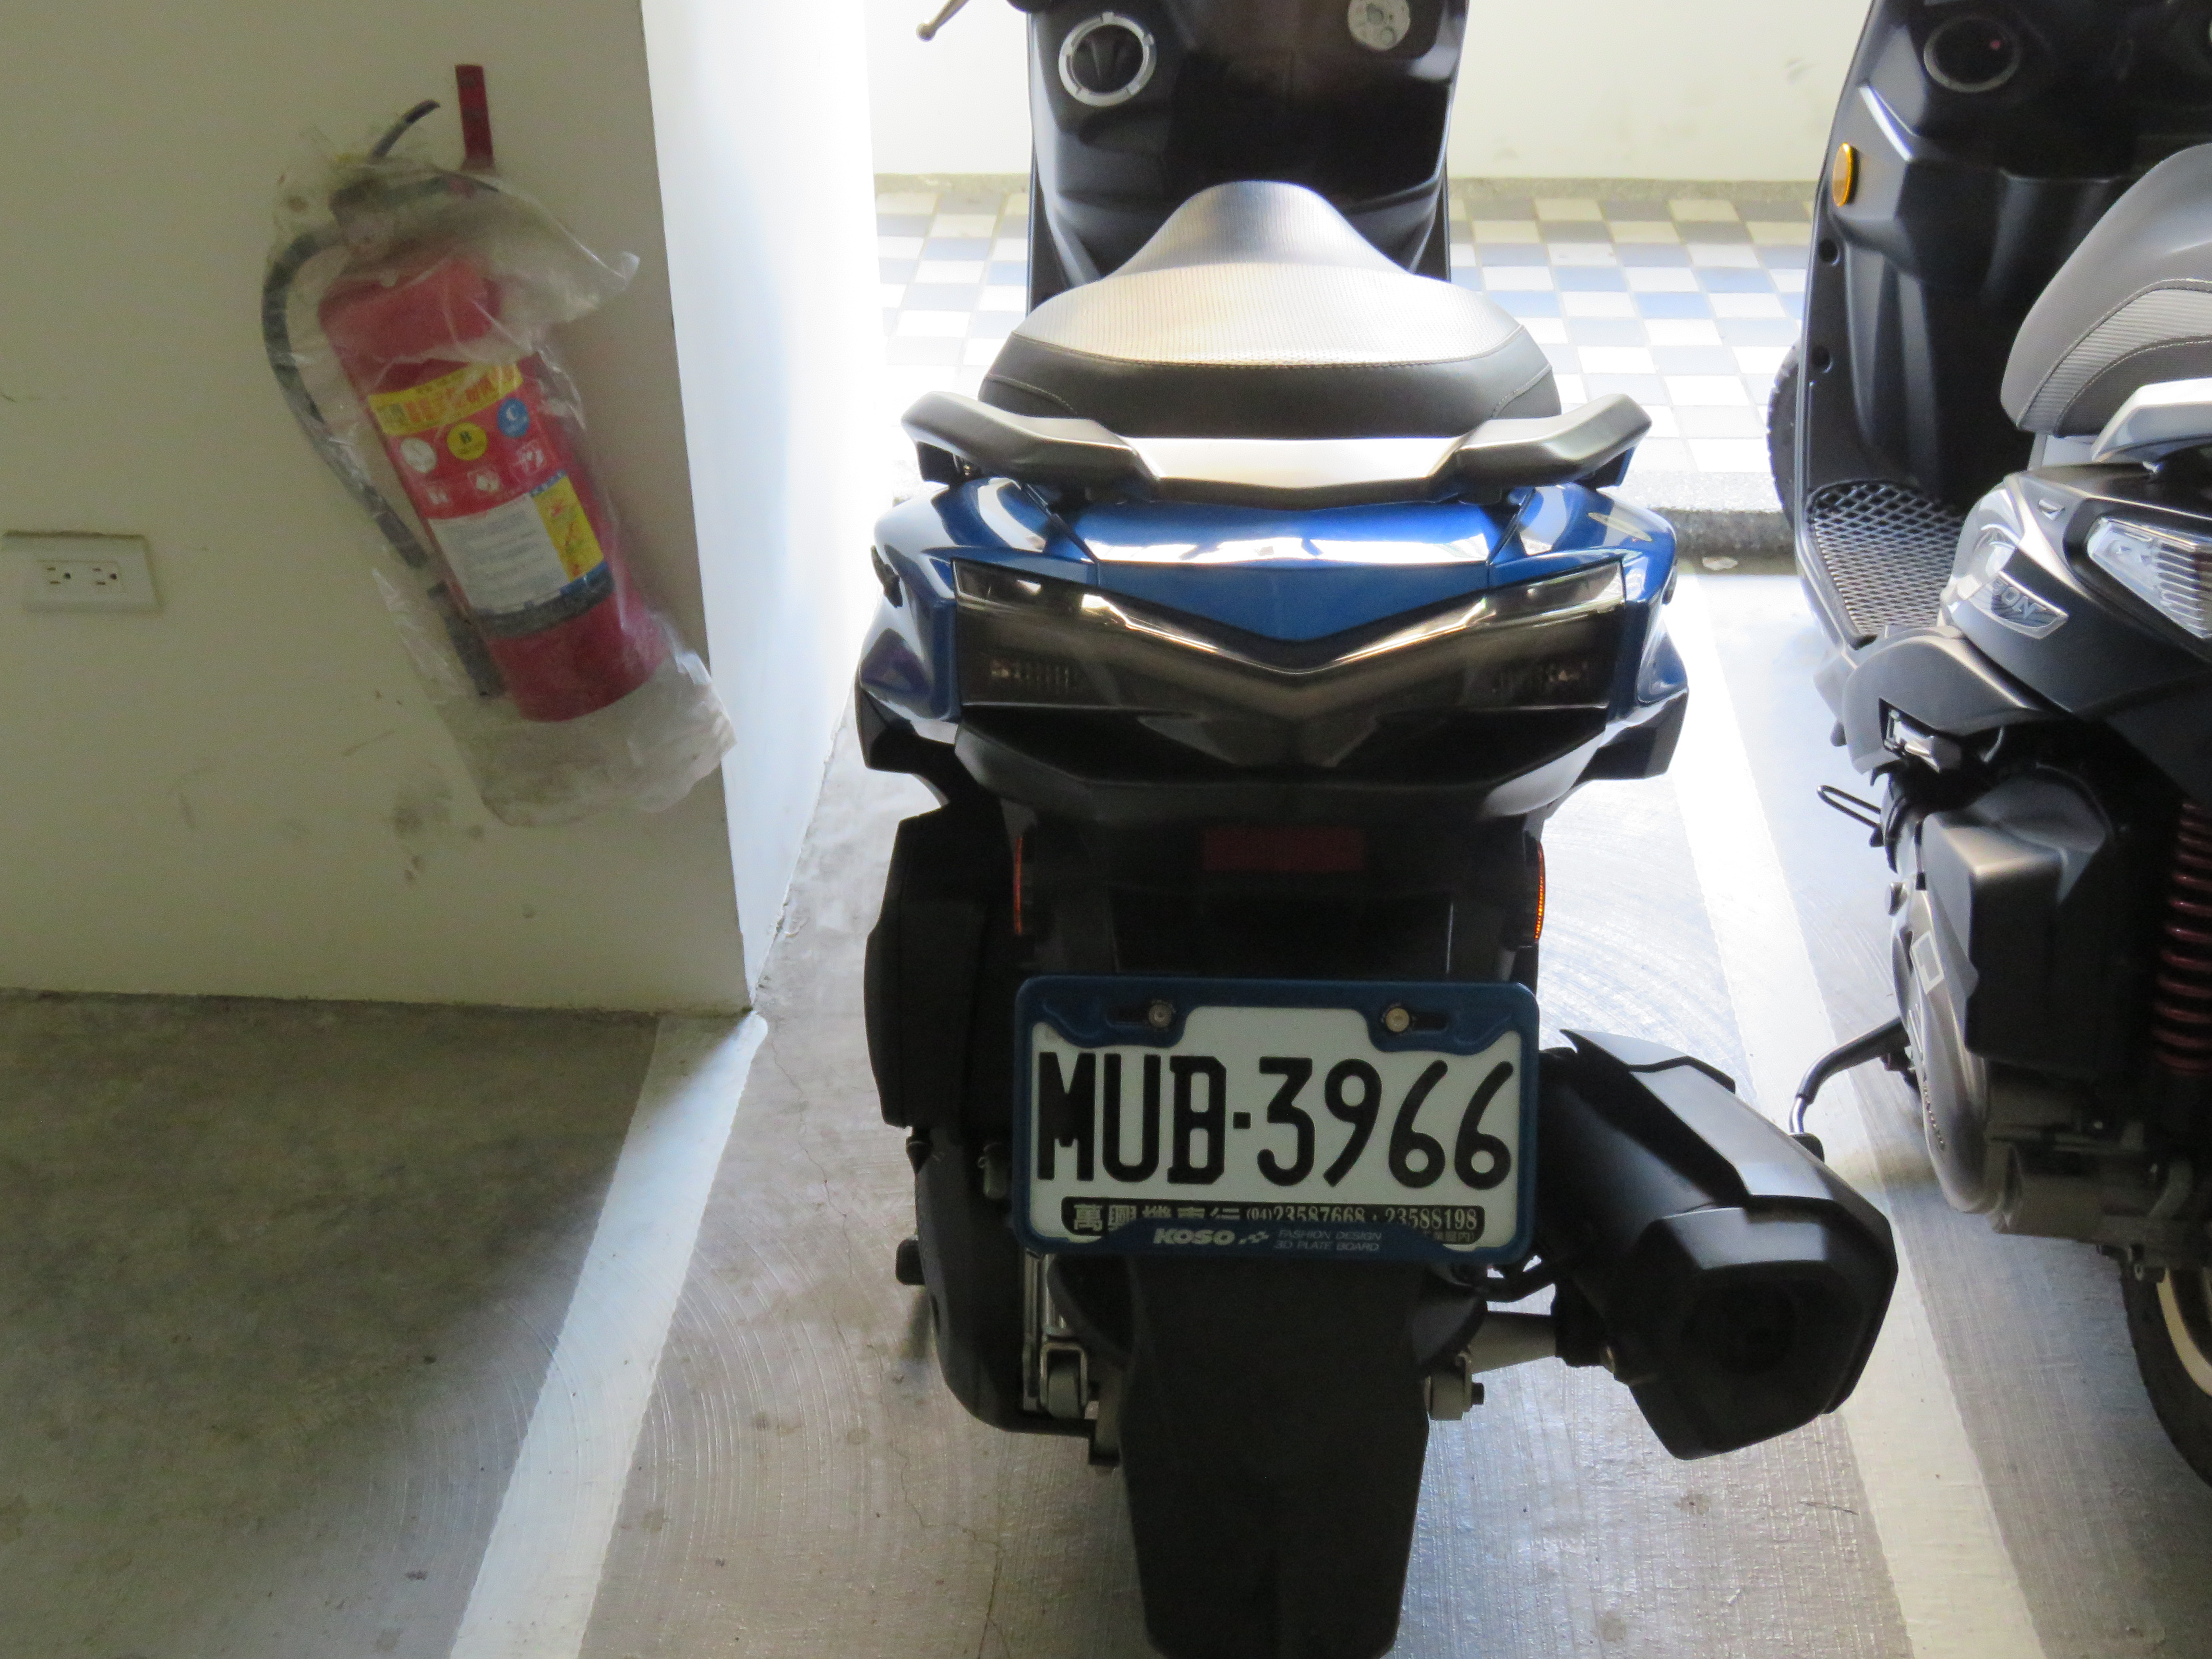car_card: (806, 669, 1416, 1019)
moto: (482, 0, 1968, 1425)
